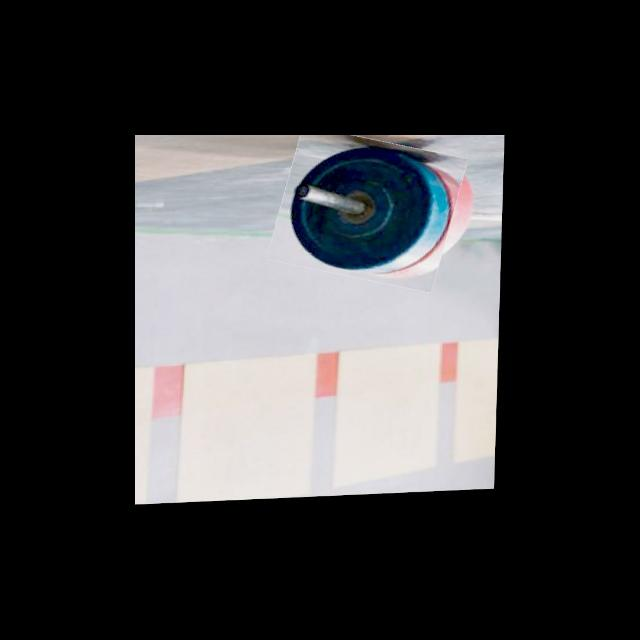barbell: (274, 135, 462, 292)
